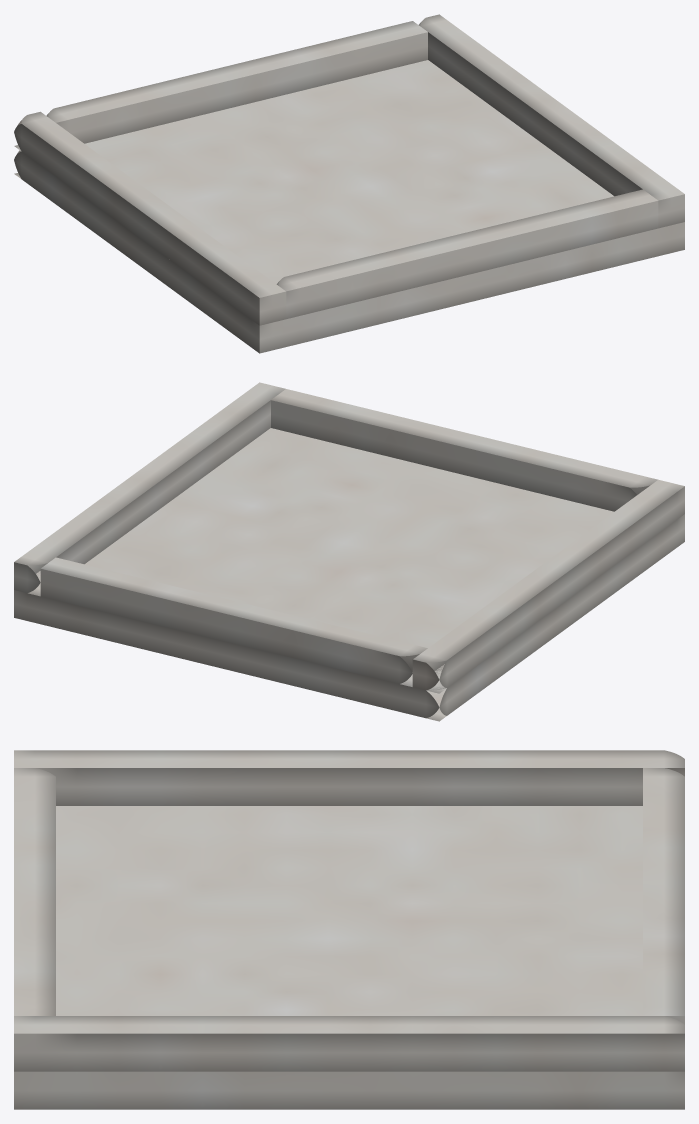
Rendered from acid_pit.obj.
3 renders of one model, top to bottom at view 1: azimuth 30°, elevation 25°; view 2: azimuth 150°, elevation 25°; view 3: azimuth 270°, elevation 25°, orthographic. The views are drawn at different scales.
Visible parts, largest first — view 1: nx, nA, nB, ny, nz; view 2: nx, nB, nA, ny, nz; view 3: nx, nz, ny, nB, nA.
Boxes of the visible parts, left/top/right/bottom form: nx: left=14, top=60, right=684, bottom=353; nA: left=276, top=189, right=658, bottom=318; nB: left=46, top=21, right=427, bottom=143; ny: left=14, top=111, right=286, bottom=325; nz: left=419, top=14, right=684, bottom=228; nx: left=14, top=428, right=684, bottom=721; nB: left=40, top=557, right=427, bottom=686; nA: left=271, top=389, right=657, bottom=511; ny: left=412, top=479, right=684, bottom=693; nz: left=14, top=382, right=285, bottom=593; nx: left=14, top=806, right=684, bottom=1109; nz: left=14, top=1016, right=684, bottom=1071; ny: left=14, top=750, right=684, bottom=805; nB: left=643, top=768, right=684, bottom=1024; nA: left=14, top=768, right=55, bottom=1015.
Size of the model in its own units: 1 by 0.125 by 1.
1 material, 1 textured.
